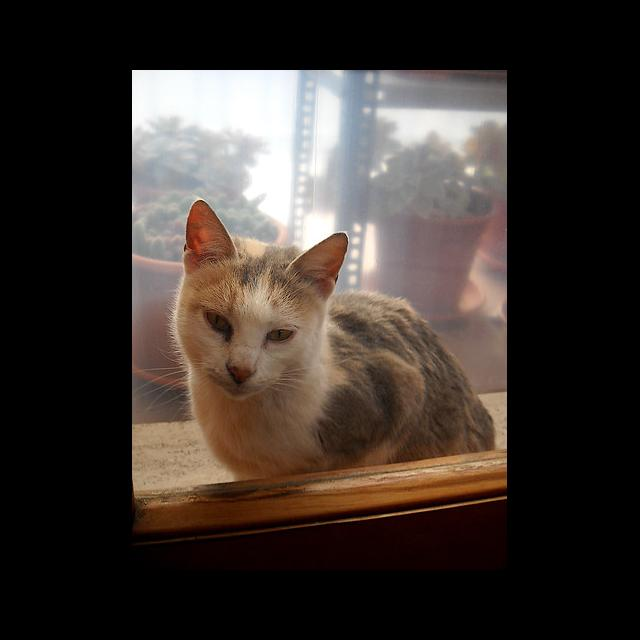animals: (165, 196, 496, 482)
